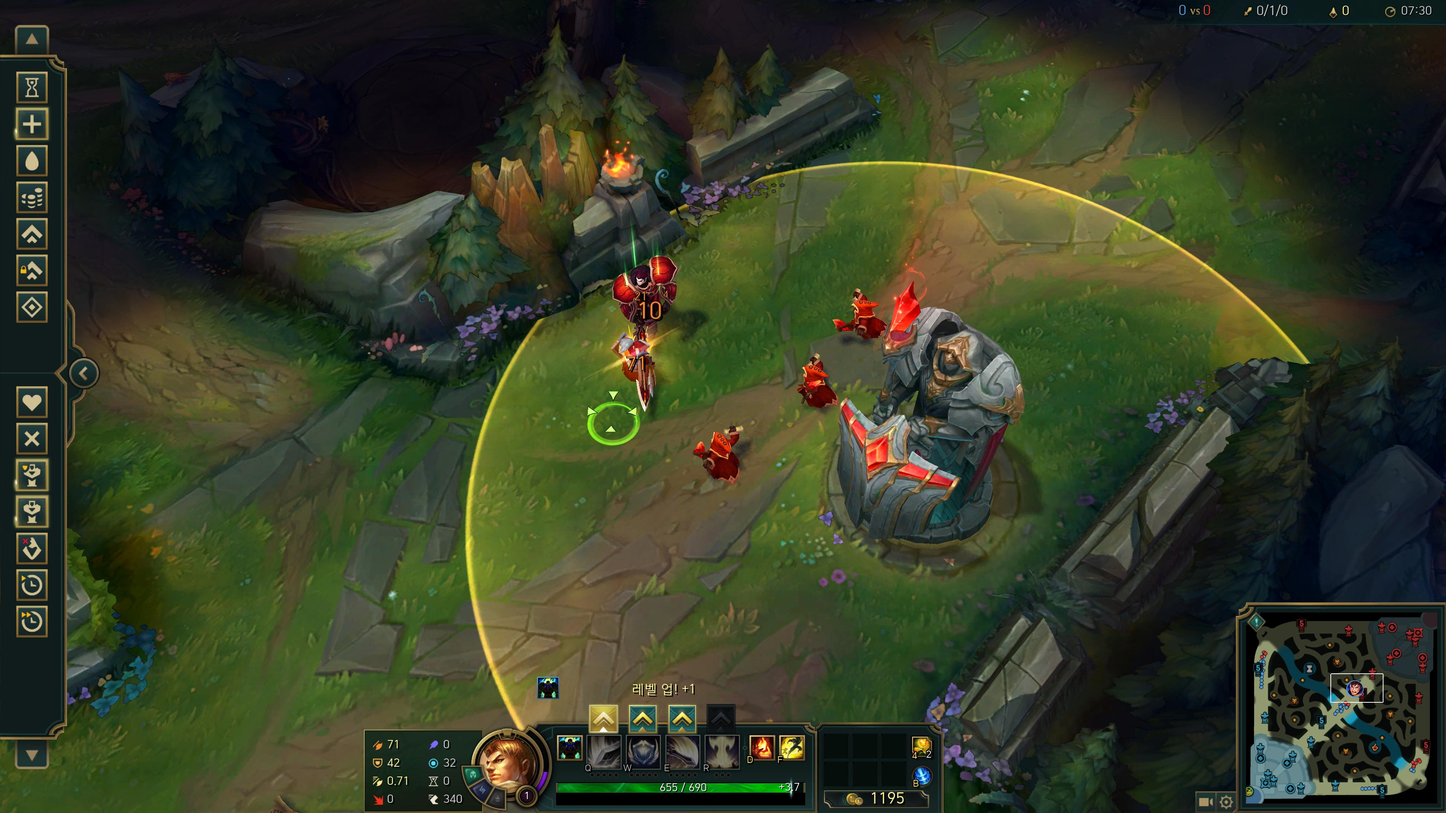enemy-caster-minion: (694, 425, 750, 487), (834, 288, 886, 344), (796, 355, 838, 409)
